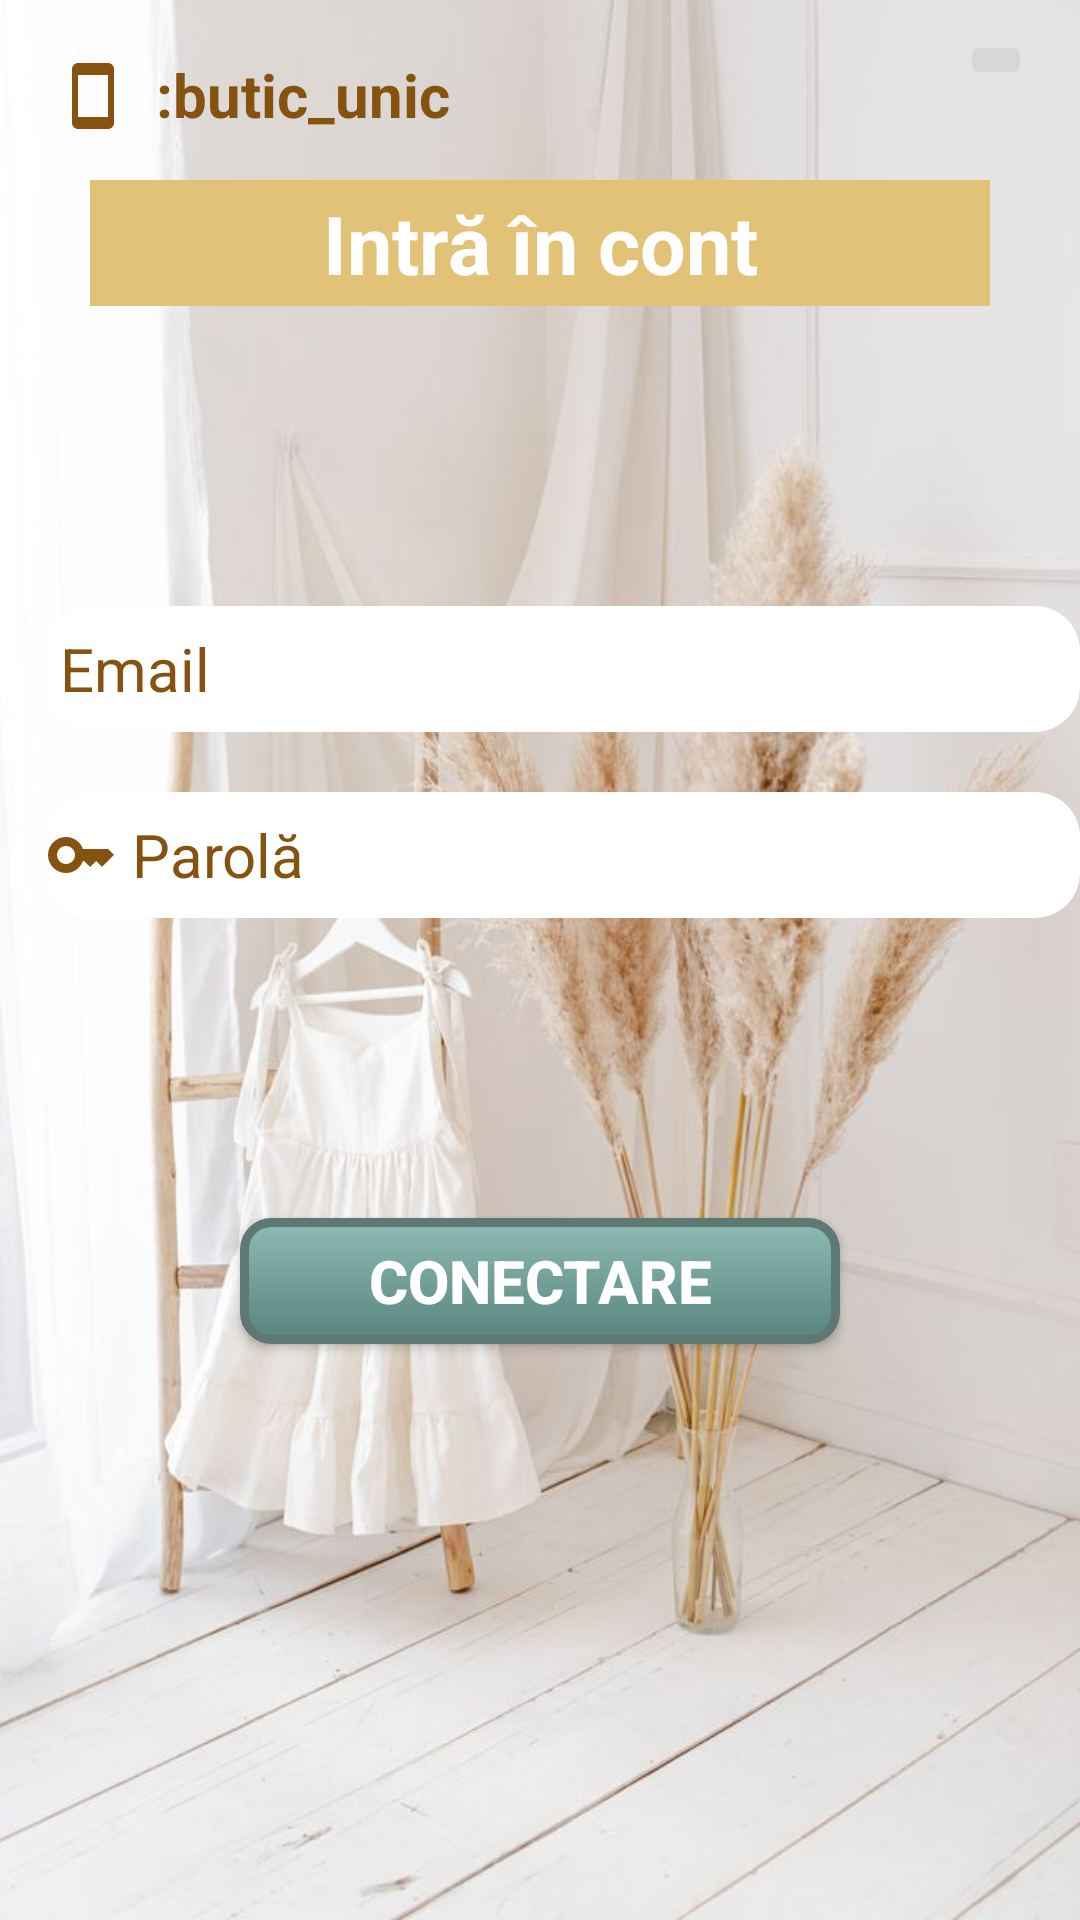

Icons on this 1080px x 1920px Android screen, each with its box as (x1, y1, x2, y2):
smartphone: (72, 63, 114, 129)
